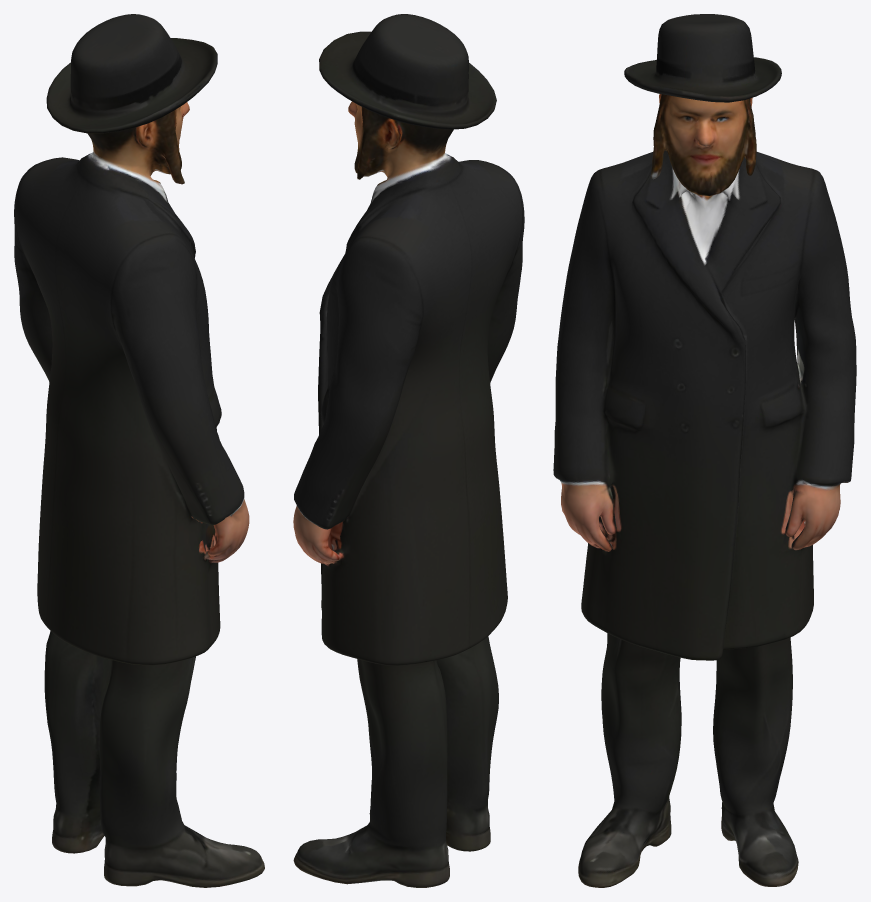
Rendered from Rzyt Mygal.fbx.
The picture shows the model from 3 angles, left to right: view 1: azimuth 30°, elevation 25°; view 2: azimuth 150°, elevation 25°; view 3: azimuth 270°, elevation 25°; orthographic projection.
Visible parts, largest first — view 1: tripo_node_97fe7630; view 2: tripo_node_97fe7630; view 3: tripo_node_97fe7630.
Part boxes in pixels (left/top/right/bottom): tripo_node_97fe7630: left=14, top=14, right=264, bottom=887; tripo_node_97fe7630: left=293, top=14, right=524, bottom=887; tripo_node_97fe7630: left=553, top=14, right=856, bottom=887.
Size of the model in its own units: 19.54 by 99.95 by 32.85.
1 material, 1 textured.
